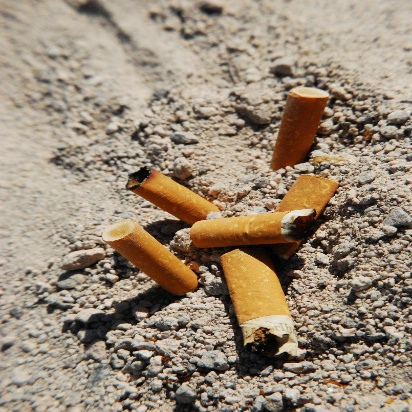cigarette: (215, 242, 311, 368), (99, 214, 206, 300), (127, 162, 220, 220), (275, 79, 328, 172), (193, 211, 318, 248), (275, 170, 343, 224)
